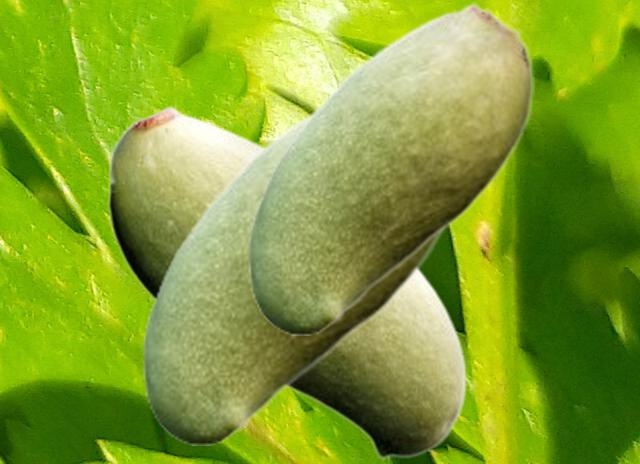green_mango: (107, 104, 466, 459), (141, 102, 449, 444), (247, 2, 533, 334)
